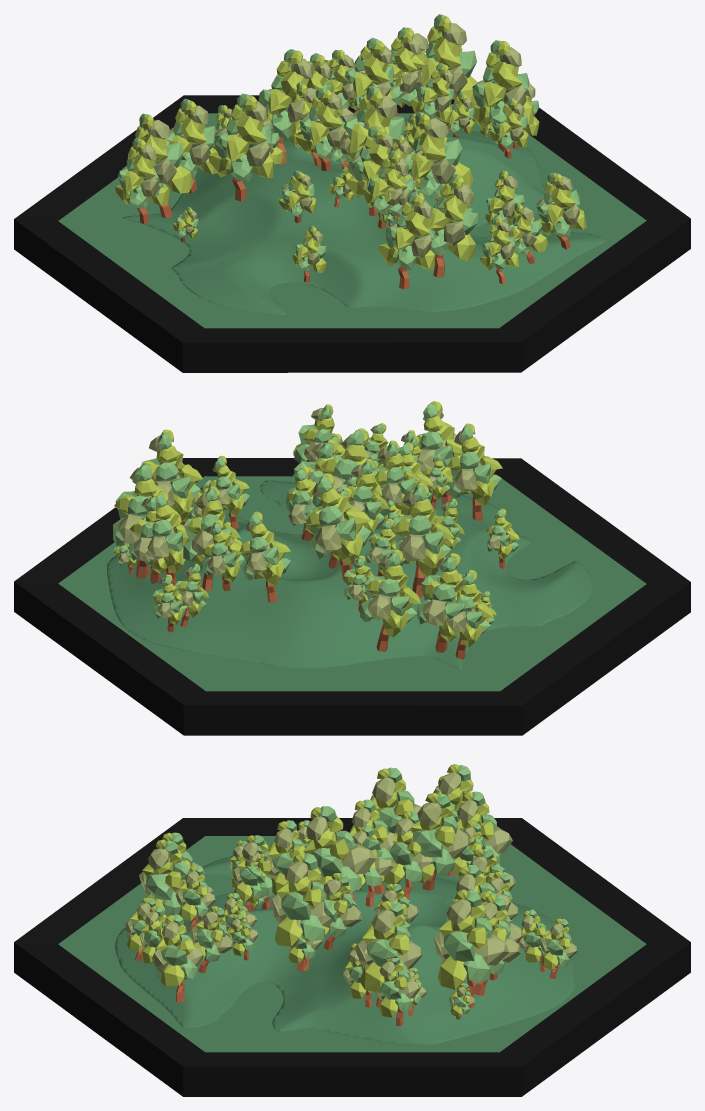
The model's file is Tile_Forest.fbx.
3 renders of one model, top to bottom at view 1: azimuth 30°, elevation 25°; view 2: azimuth 150°, elevation 25°; view 3: azimuth 270°, elevation 25°, orthographic.
Parts seen in each view (by area): view 1: Forest Tile; view 2: Forest Tile; view 3: Forest Tile.
Boxes of the visible parts, box(x1,y1,x2,y2) form: Forest Tile: box(14, 14, 690, 372); Forest Tile: box(14, 401, 690, 735); Forest Tile: box(14, 764, 690, 1096).
Bounding box in the file's own units: 200 × 64.59 × 230.
